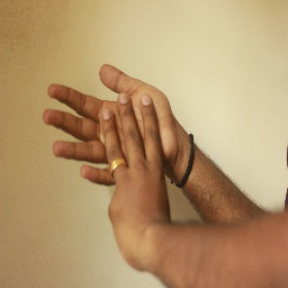M: (43, 62, 179, 212)
